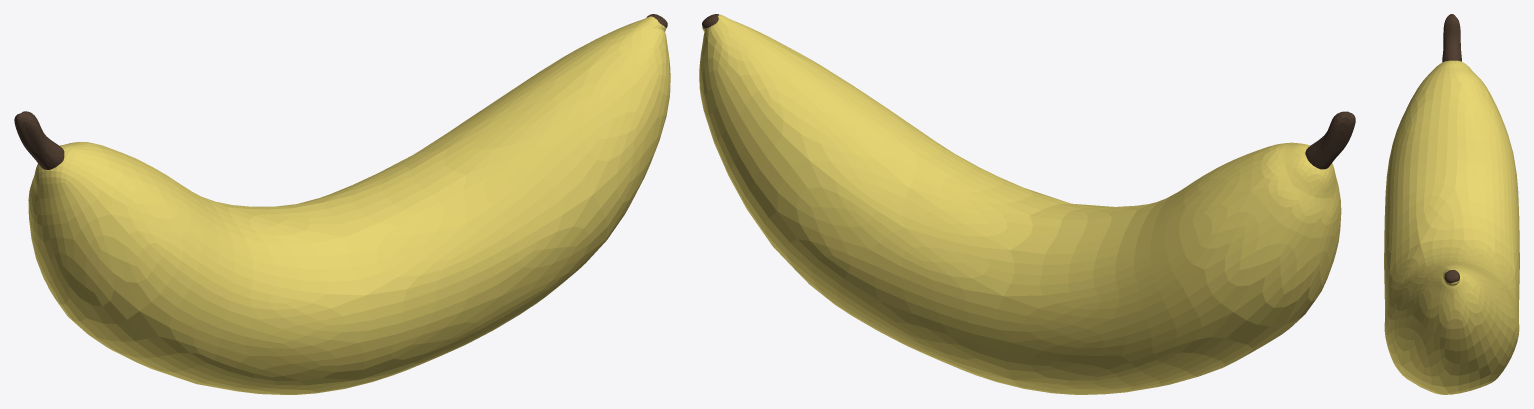
Rendered from banana.fbx.
The picture shows the model from 3 angles, left to right: view 1: azimuth 30°, elevation 25°; view 2: azimuth 150°, elevation 25°; view 3: azimuth 270°, elevation 25°; orthographic projection. The views are drawn at different scales.
Parts seen in each view (by area): view 1: Banana; view 2: Banana; view 3: Banana.
Boxes of the visible parts, x1,y1,x2,y2 form: Banana: [14, 14, 670, 394]; Banana: [699, 14, 1355, 394]; Banana: [1384, 14, 1519, 394].
Size of the model in its own units: 129 by 65.07 by 33.3.
